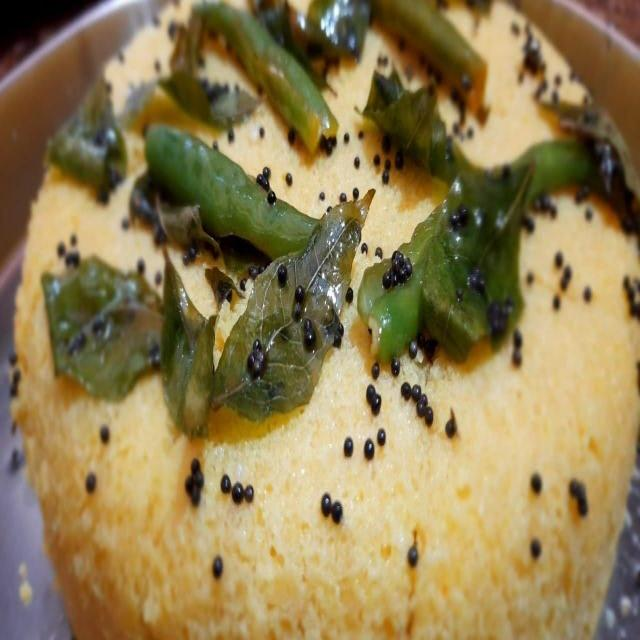dhokla: (16, 0, 640, 640)
